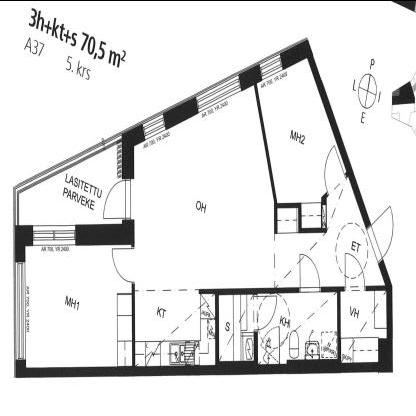door: (101, 167, 138, 228), (367, 198, 394, 266), (321, 133, 351, 193), (110, 239, 139, 293), (250, 286, 281, 336), (298, 245, 322, 295), (343, 245, 367, 293)
window: (193, 56, 243, 119), (11, 252, 29, 364), (29, 216, 79, 254), (258, 39, 290, 89), (139, 105, 173, 147)
